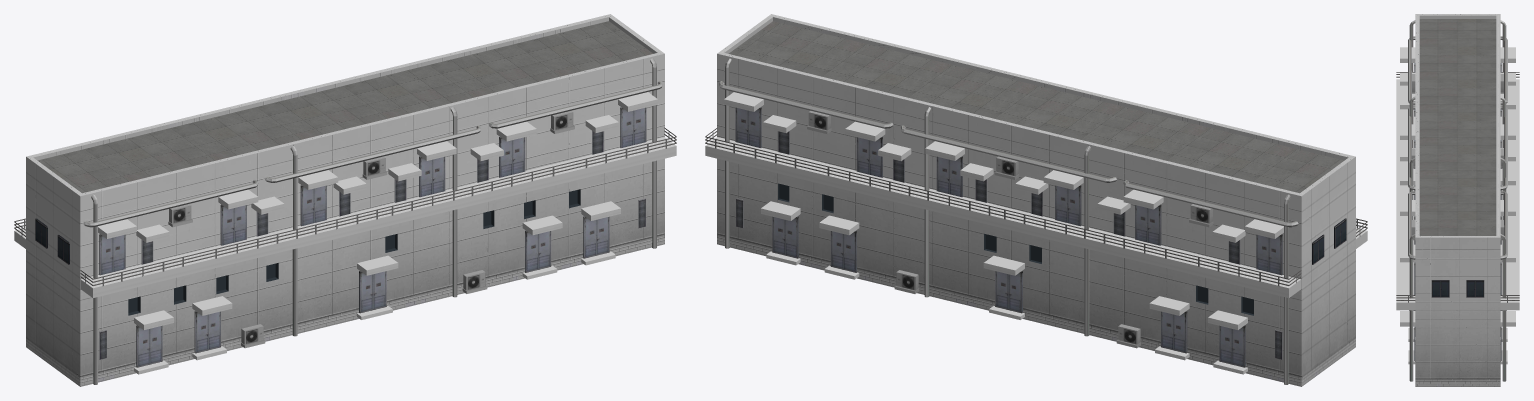
The model's file is substation_ht_1005_03.obj.
The picture shows the model from 3 angles, left to right: view 1: azimuth 30°, elevation 25°; view 2: azimuth 150°, elevation 25°; view 3: azimuth 270°, elevation 25°; orthographic projection. The views are drawn at different scales.
Parts seen in each view (by area): view 1: substation_ht_1005_03; view 2: substation_ht_1005_03; view 3: substation_ht_1005_03.
Boxes of the visible parts, left/top/right/bottom form: substation_ht_1005_03: left=14, top=14, right=676, bottom=386; substation_ht_1005_03: left=705, top=14, right=1367, bottom=386; substation_ht_1005_03: left=1396, top=14, right=1519, bottom=386.
Size of the model in its own units: 349 by 108 by 80.99.
Materials: 5 (5 with a texture image).
